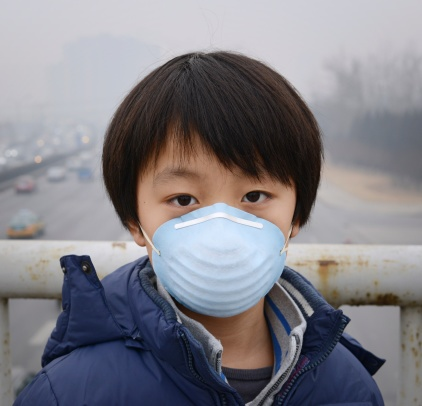mask: (141, 214, 291, 317)
